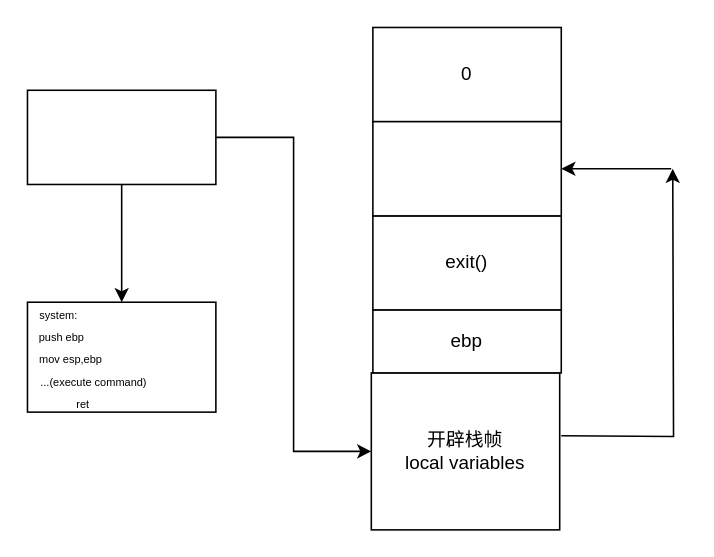
The diagram is 714 pixels wide and 557 high, and some of its shapes have lost their labels. The shapes that lost their labels are listed below. From the top down, each one's centre as x and y in pixels, then its label:
point (121, 136): system()
point (466, 168): /bin/sh
